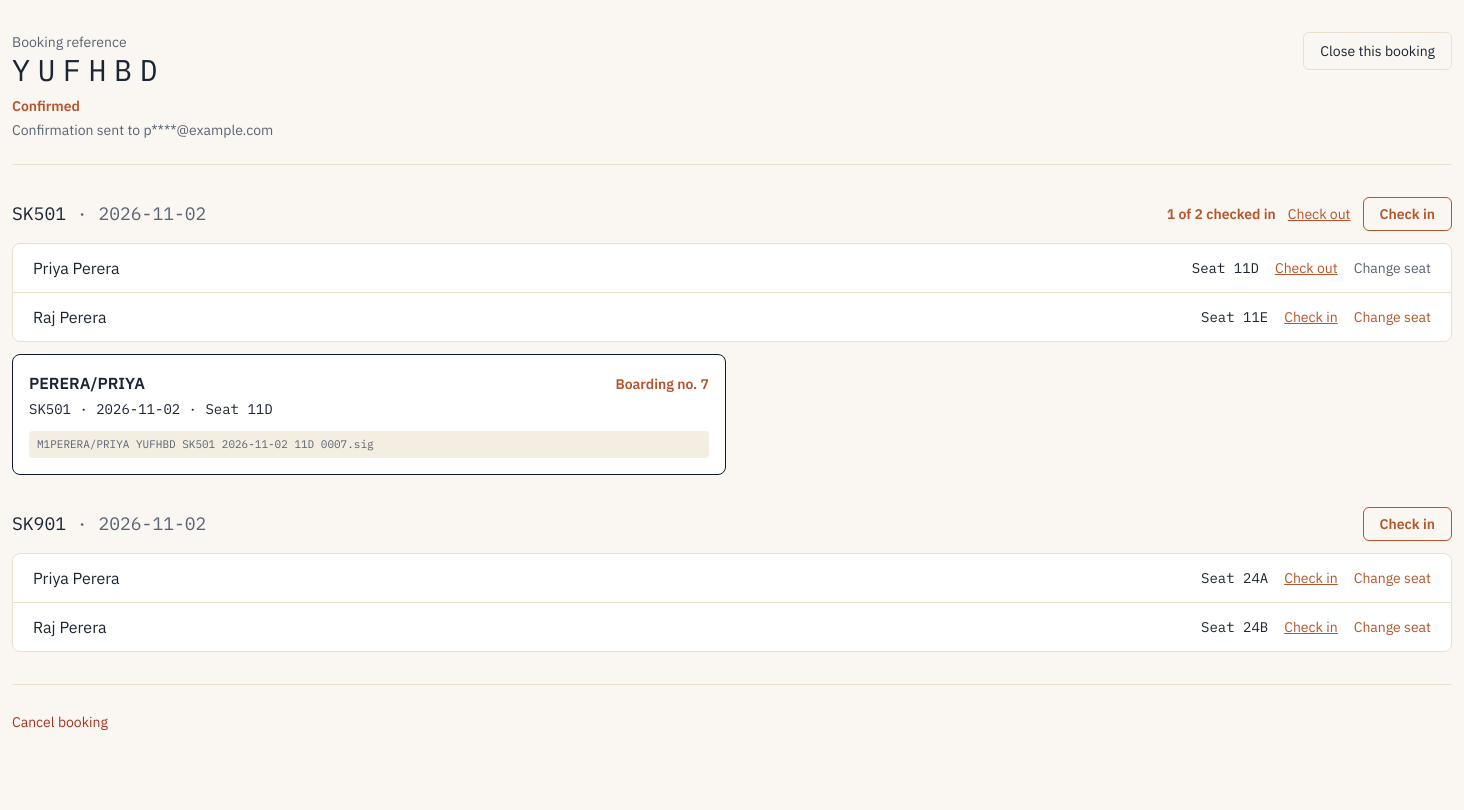
ManageView › checking in › checks out, takes the passes away and lets the seats be changed again
Expected: the button with aria-label "Change seat for Priya Perera on SK501" is disabled, [1354,258,1431,278]
Step 1. Click the button with aria-label "Check out of SK501" → (1319, 214), box [1288,204,1351,224]
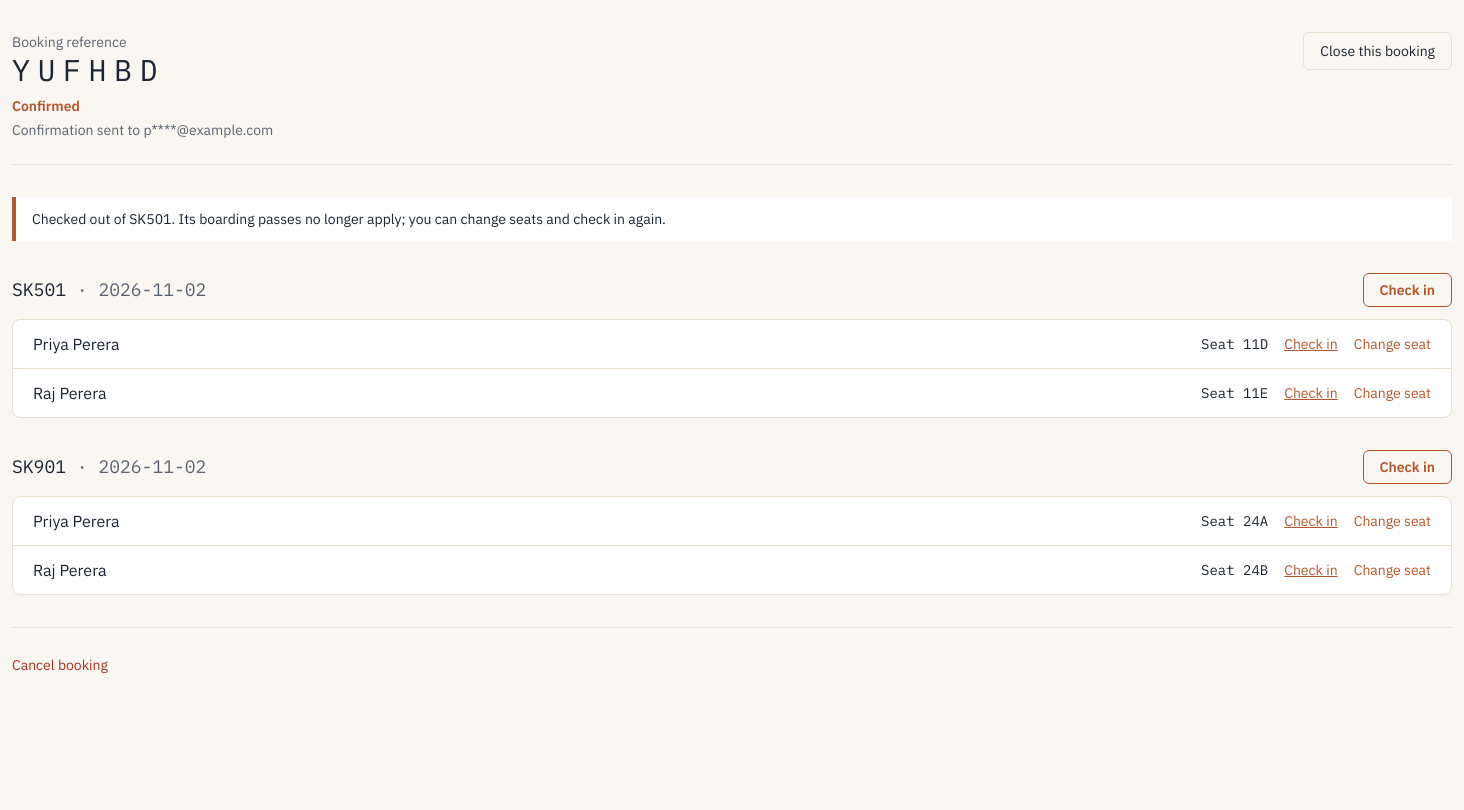
Result: the message shows "Checked out of SK501" at [32,210,666,228]
Result: the text "M1PERERA/PRIYA YUFHBD SK501 2026-11-02 11D 0007.sig" is gone
Result: the button with aria-label "Change seat for Priya Perera on SK501" is enabled at [1354,334,1431,354]
